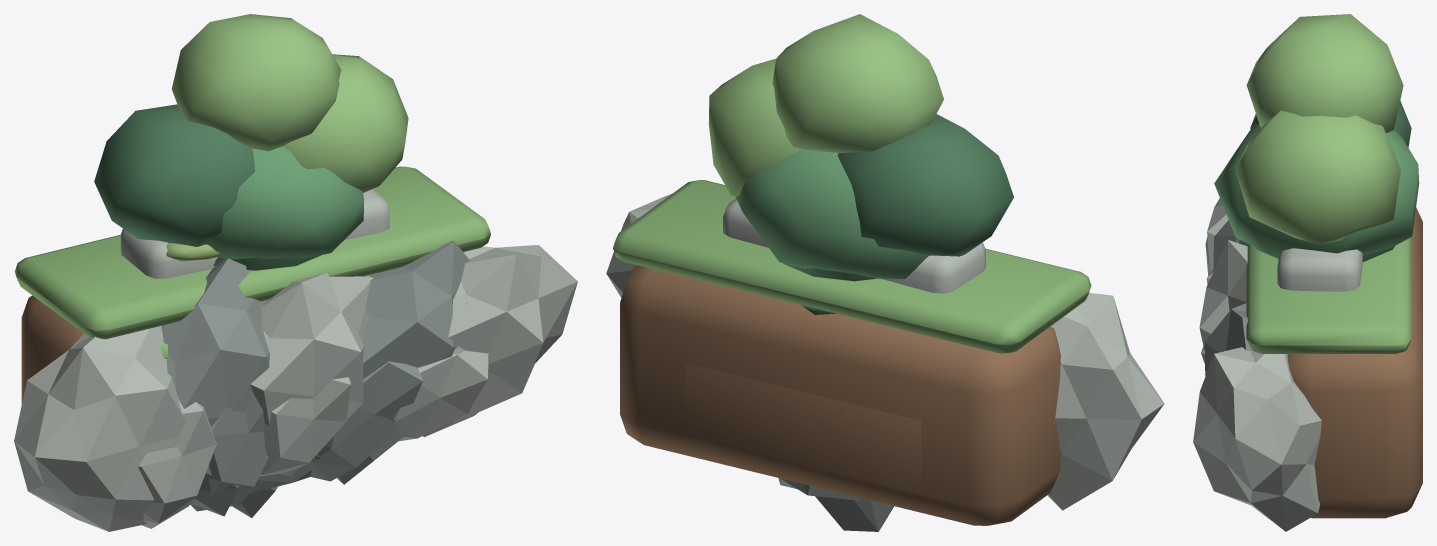
Rendered from forest-kit.glb.
3 views of the same model, side by side, from view 1: azimuth 30°, elevation 25°; view 2: azimuth 150°, elevation 25°; view 3: azimuth 270°, elevation 25° (orthographic). The views are drawn at different scales.
Parts seen in each view (by area): view 1: Cliff_Wide_Rock1, Cliff_Wide_GrassCap, Tree_Broad_A_CrownD, Tree_Broad_A_CrownB, Cliff_Wide_Rock5, Cliff_Wide_Rock3, Cliff_Wide_Rock2, Tree_Broad_A_CrownA, Cliff_Wide_Rock4, Tree_Broad_A_CrownC, Cliff_Straight_Rock4, Cliff_Straight_Rock1 (+8 smaller); view 2: Cliff_Wide_Core, Cliff_Wide_GrassCap, Cliff_Straight_Core, Tree_Broad_A_CrownD, Tree_Broad_A_CrownB, Cliff_Wide_Rock1, Tree_Broad_A_CrownA, Tree_Broad_A_CrownC, Ruin_Arch_Lintel, Rock_Tall_Body, Cliff_Wide_Rock5; view 3: Cliff_Wide_Core, Cliff_Wide_Rock5, Tree_Broad_A_CrownC, Cliff_Wide_GrassCap, Tree_Broad_A_CrownD, Tree_Broad_A_CrownA, Ruin_Arch_Lintel, Cliff_Wide_Rock3, Cliff_Wide_Rock4, Cliff_Wide_Rock1, Cliff_Wide_Rock2, Tree_Broad_A_CrownB.
Boxes of the visible parts, left/top/right/bottom form: Cliff_Wide_Rock1: left=14, top=325, right=185, bottom=531; Cliff_Wide_GrassCap: left=14, top=166, right=490, bottom=339; Tree_Broad_A_CrownD: left=172, top=14, right=341, bottom=151; Tree_Broad_A_CrownB: left=94, top=104, right=255, bottom=246; Cliff_Wide_Rock5: left=423, top=245, right=577, bottom=437; Cliff_Wide_Rock3: left=250, top=272, right=373, bottom=475; Cliff_Wide_Rock2: left=161, top=258, right=269, bottom=516; Tree_Broad_A_CrownA: left=206, top=146, right=363, bottom=259; Cliff_Wide_Rock4: left=337, top=241, right=469, bottom=484; Tree_Broad_A_CrownC: left=283, top=54, right=408, bottom=192; Cliff_Straight_Rock4: left=306, top=361, right=422, bottom=481; Cliff_Straight_Rock1: left=138, top=398, right=216, bottom=528; Cliff_Wide_Core: left=620, top=265, right=1060, bottom=525; Cliff_Wide_GrassCap: left=613, top=180, right=1091, bottom=353; Cliff_Straight_Core: left=685, top=363, right=922, bottom=501; Tree_Broad_A_CrownD: left=772, top=14, right=943, bottom=152; Tree_Broad_A_CrownB: left=837, top=114, right=1013, bottom=256; Cliff_Wide_Rock1: left=1047, top=293, right=1164, bottom=510; Tree_Broad_A_CrownA: left=735, top=149, right=928, bottom=278; Tree_Broad_A_CrownC: left=708, top=58, right=800, bottom=196; Ruin_Arch_Lintel: left=723, top=199, right=985, bottom=293; Rock_Tall_Body: left=815, top=496, right=893, bottom=531; Cliff_Wide_Rock5: left=606, top=194, right=671, bottom=297; Cliff_Wide_Core: left=1287, top=207, right=1422, bottom=518; Cliff_Wide_Rock5: left=1193, top=347, right=1321, bottom=531; Tree_Broad_A_CrownC: left=1235, top=110, right=1400, bottom=244; Cliff_Wide_GrassCap: left=1246, top=237, right=1411, bottom=353; Tree_Broad_A_CrownD: left=1246, top=14, right=1403, bottom=133; Tree_Broad_A_CrownA: left=1214, top=123, right=1419, bottom=255; Ruin_Arch_Lintel: left=1277, top=248, right=1362, bottom=291; Cliff_Wide_Rock3: left=1199, top=240, right=1247, bottom=351; Cliff_Wide_Rock4: left=1204, top=303, right=1251, bottom=376; Cliff_Wide_Rock1: left=1205, top=198, right=1228, bottom=275; Cliff_Wide_Rock2: left=1213, top=220, right=1246, bottom=270; Tree_Broad_A_CrownB: left=1250, top=101, right=1411, bottom=147.
Bounding box in the file's own units: 5.51 × 4.81 × 2.11.
